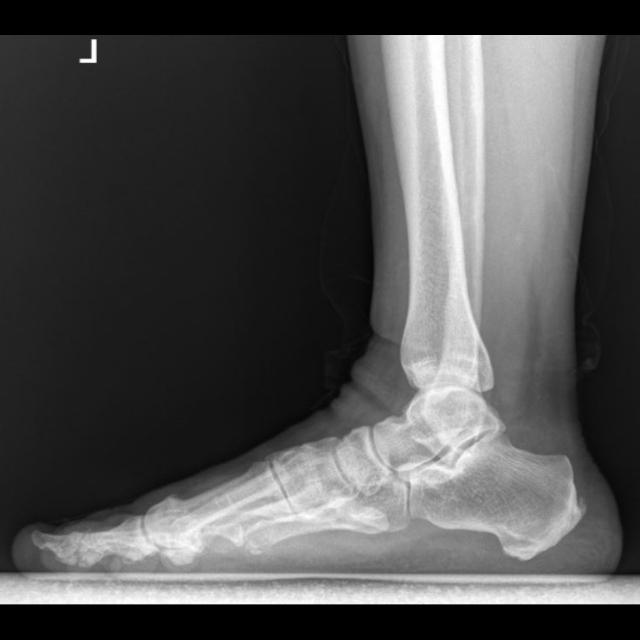a: (397, 433, 585, 563)
b: (336, 425, 391, 495)
c: (143, 461, 293, 566)
